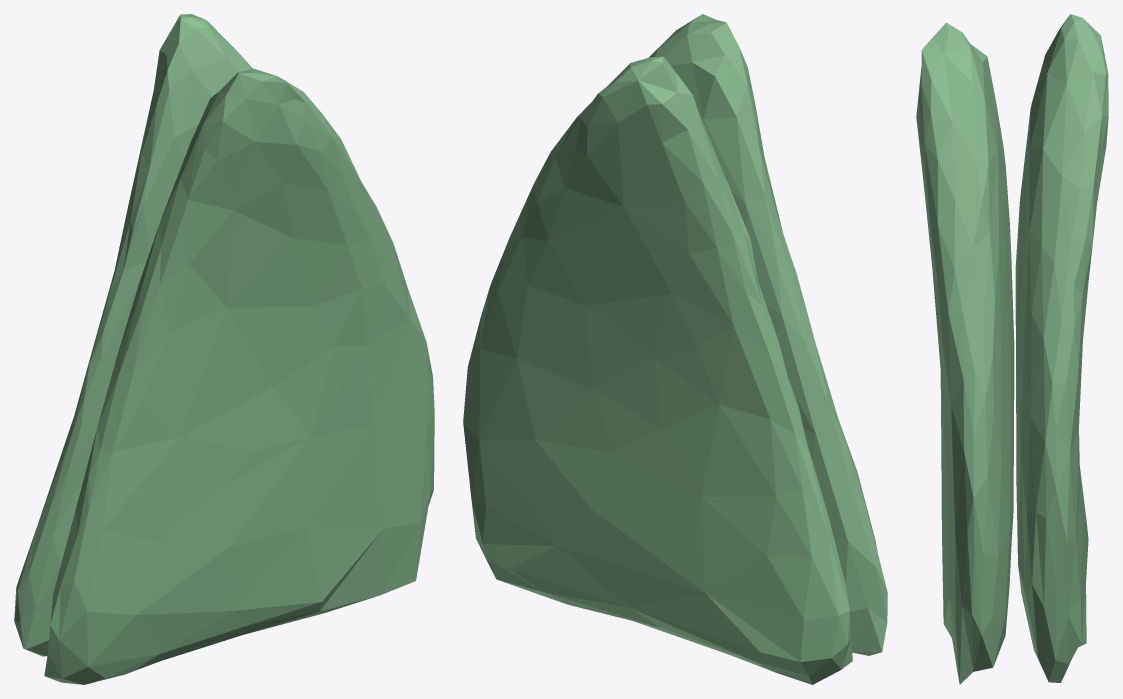
3 renders of one model, left to right at view 1: azimuth 30°, elevation 25°; view 2: azimuth 150°, elevation 25°; view 3: azimuth 270°, elevation 25°, orthographic. The views are drawn at different scales.
Parts seen in each view (by area): view 1: 707.obj; view 2: 707.obj; view 3: 707.obj.
Boxes of the visible parts, x1,y1,x2,y2 form: 707.obj: (14, 14, 434, 684); 707.obj: (463, 14, 887, 684); 707.obj: (916, 14, 1108, 684).
Bounding box in the file's own units: 759 × 1132 × 322.
